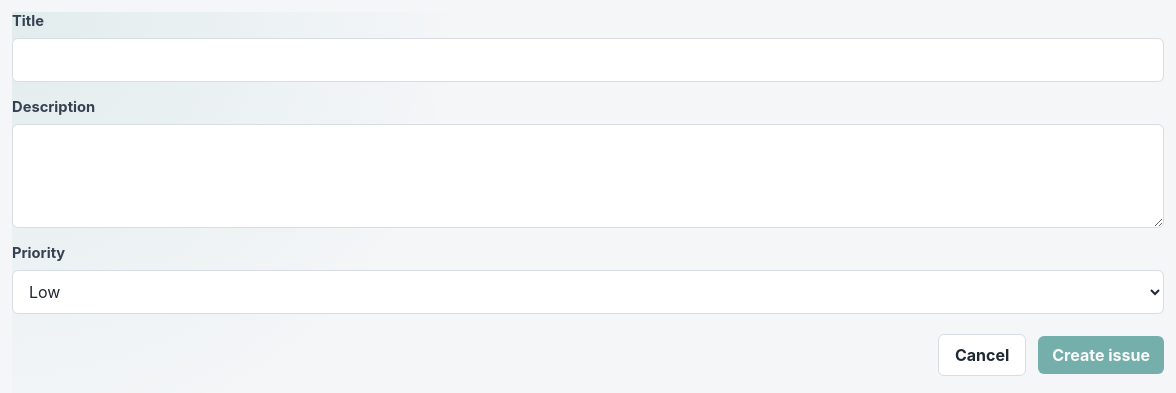
CreateIssueForm › keeps submit disabled until title and description are valid
expect the button "Create issue" is disabled: met, box [1038, 336, 1164, 374]
Type "Bug" into the field labelled "Title". click: (588, 60)
box: [12, 38, 1164, 82]
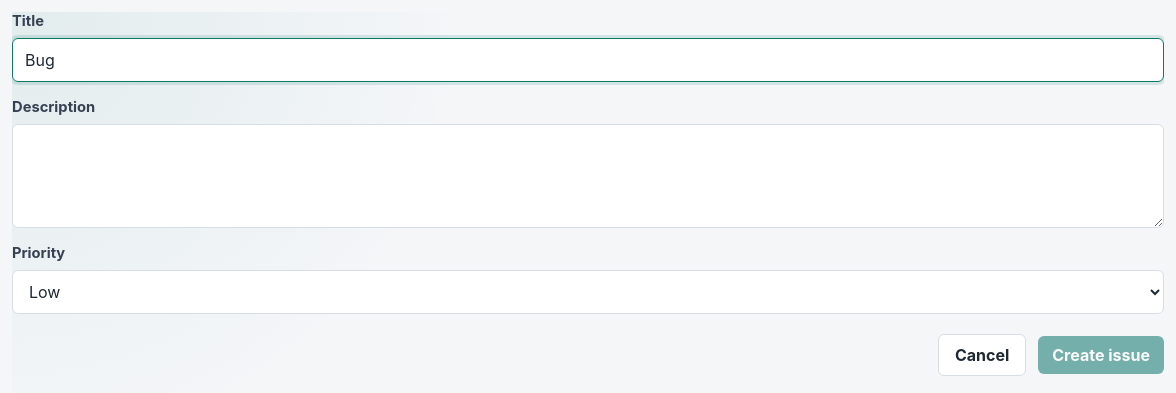
Type "Broken" into the text box labelled "Description". click: (588, 176)
box: [12, 124, 1164, 228]
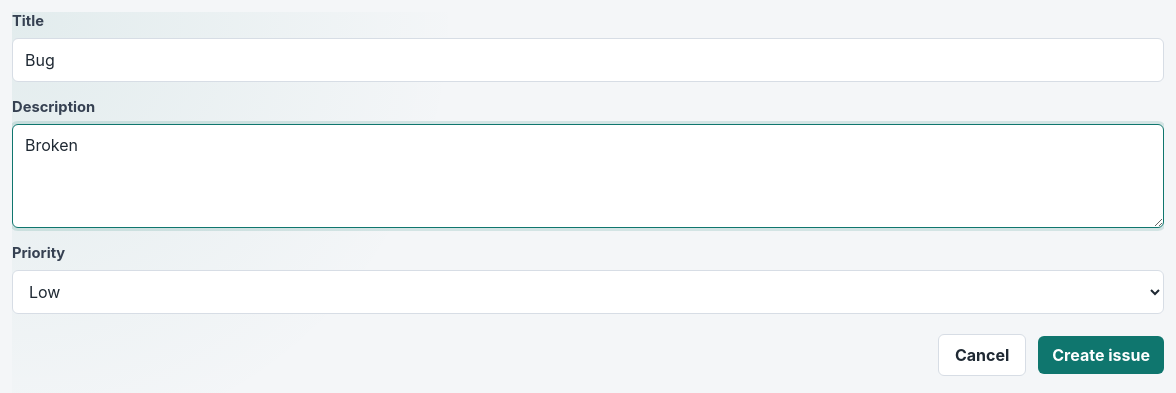
expect the button "Create issue" is enabled: met, box [1038, 336, 1164, 374]
